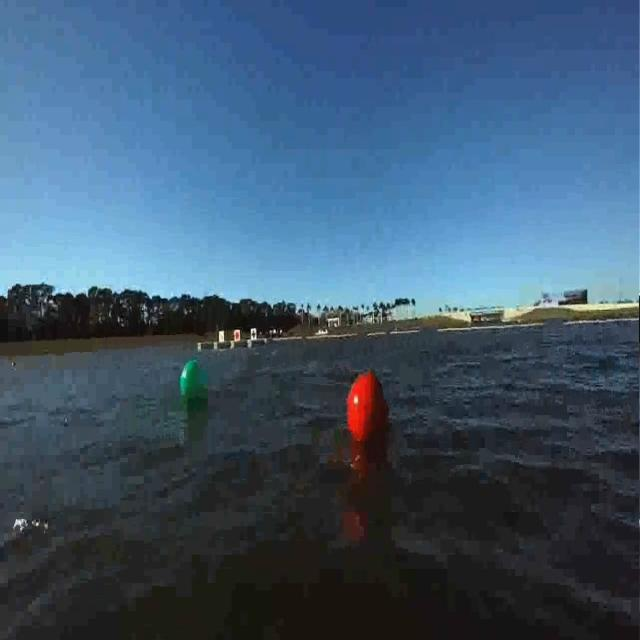green-buoy: (179, 358, 208, 408)
red-buoy: (346, 373, 390, 445)
